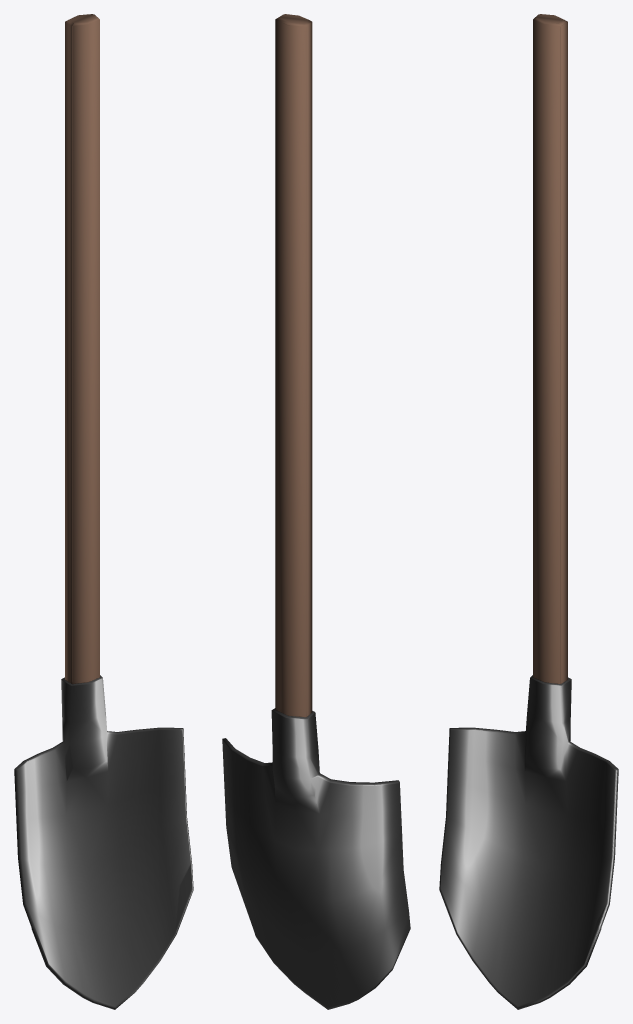
3 views of the same model, side by side, from view 1: azimuth 30°, elevation 25°; view 2: azimuth 150°, elevation 25°; view 3: azimuth 330°, elevation 25° (orthographic). The views are drawn at different scales.
Visible parts, largest first — view 1: Cilindro; view 2: Cilindro; view 3: Cilindro.
Part boxes in pixels (x1,y1,x2,y2): Cilindro: (14, 14, 193, 1009); Cilindro: (222, 14, 410, 1009); Cilindro: (439, 14, 618, 1009).
Size of the model in its own units: 0.1017 by 0.5556 by 0.0423.
Materials: 1 (1 with a texture image).
